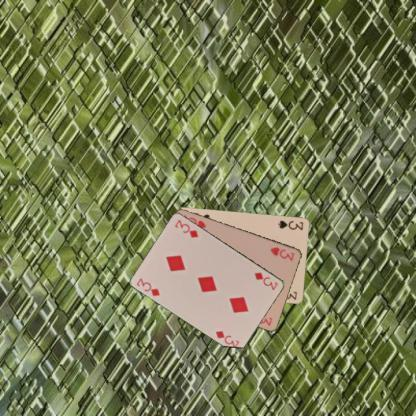3d: (252, 269, 279, 291), (134, 276, 161, 298)
3h: (268, 244, 296, 262)
3s: (275, 218, 304, 232)
